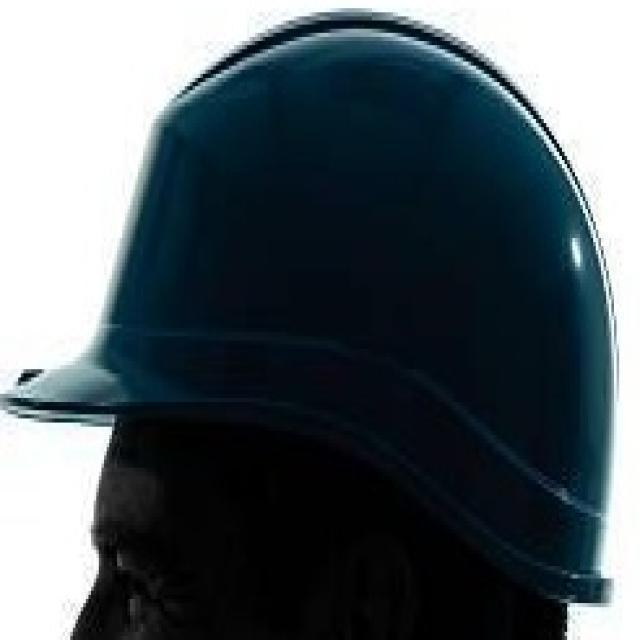blue helmet: (23, 18, 640, 572)
